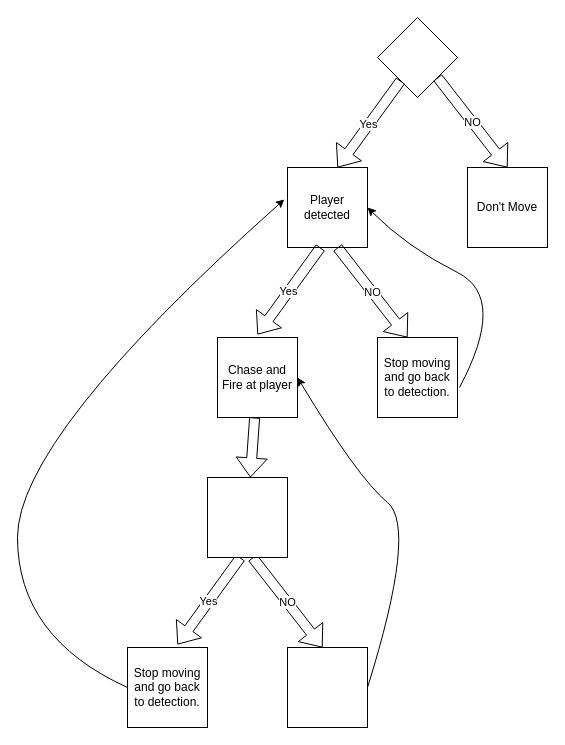
Image size: 565x745. Some labels were removed from this diagram. The box of each missing label's shape, as (x1, y1, x2, y2) in pixels:
Back to chase and fire at player: (286, 646, 368, 728)
Chase Enabled: (376, 16, 458, 98)
Outside of range?: (206, 476, 288, 558)
